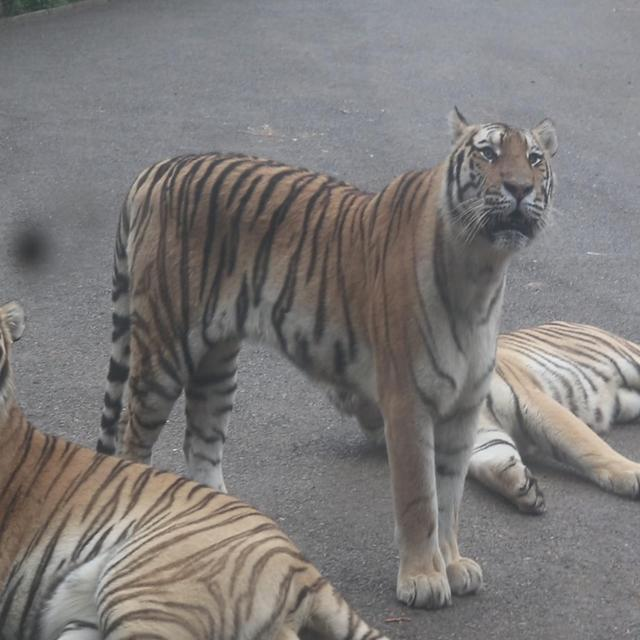tiger: (96, 102, 570, 616), (0, 290, 405, 639), (351, 318, 640, 517)
